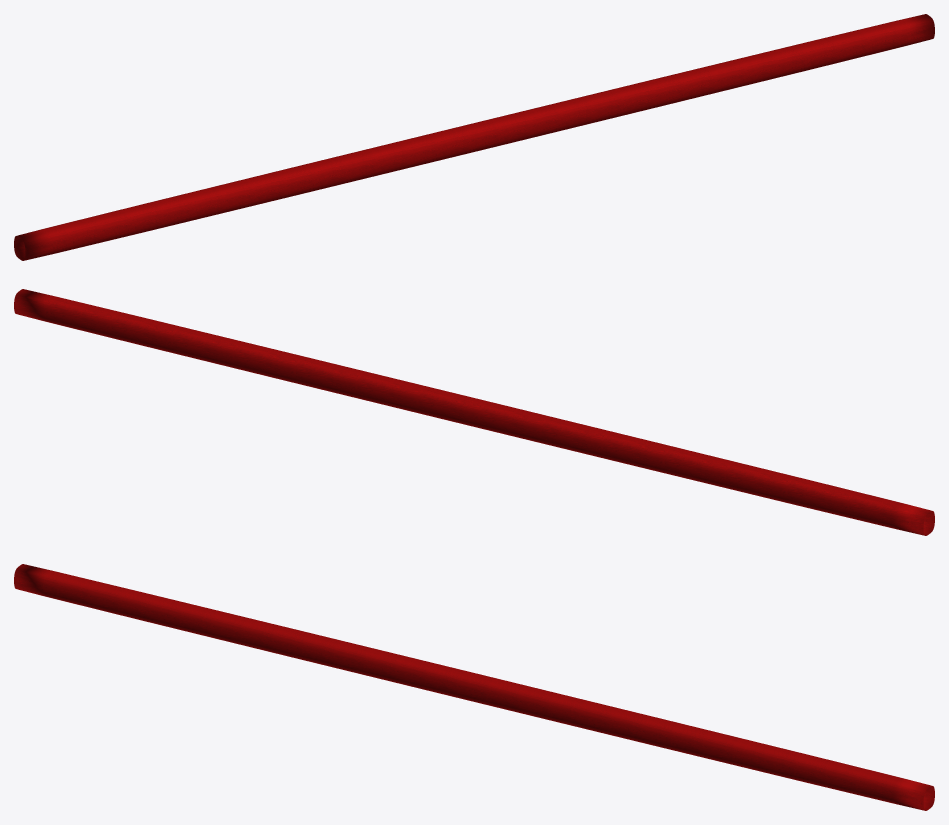
Rendered from Pista 1 Unity.FBX.
3 renders of one model, top to bottom at view 1: azimuth 30°, elevation 25°; view 2: azimuth 150°, elevation 25°; view 3: azimuth 330°, elevation 25°, orthographic.
Visible parts, largest first — view 1: pista 1; view 2: pista 1; view 3: pista 1.
Part boxes in pixels (x1=…): pista 1: x1=14, y1=14, x2=934, y2=260; pista 1: x1=14, y1=289, x2=934, y2=535; pista 1: x1=14, y1=564, x2=934, y2=810.
Size of the model in its own units: 1027 by 25.12 by 24.33.
1 material, 1 textured.
